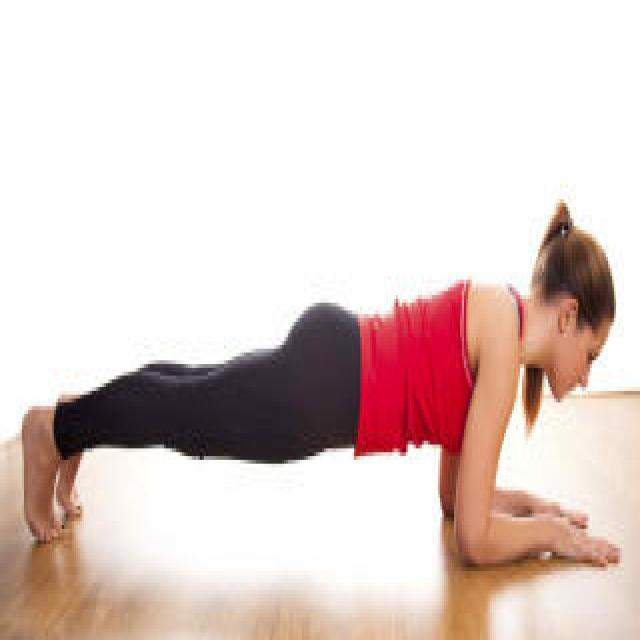yoga-pose plank: (22, 197, 626, 577)
